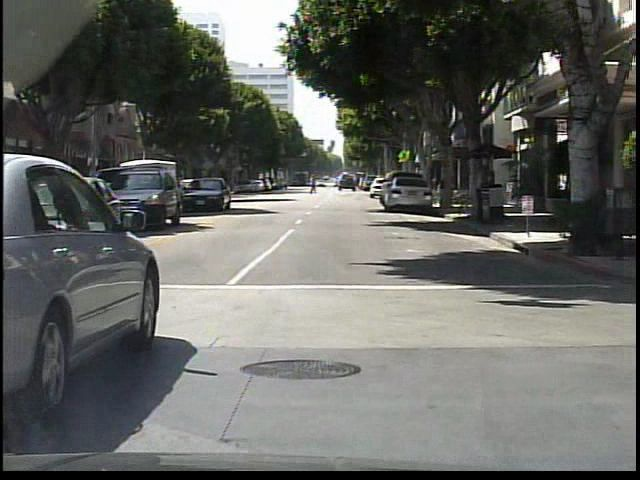person: (585, 166, 602, 237), (477, 163, 496, 222), (309, 176, 319, 196)
